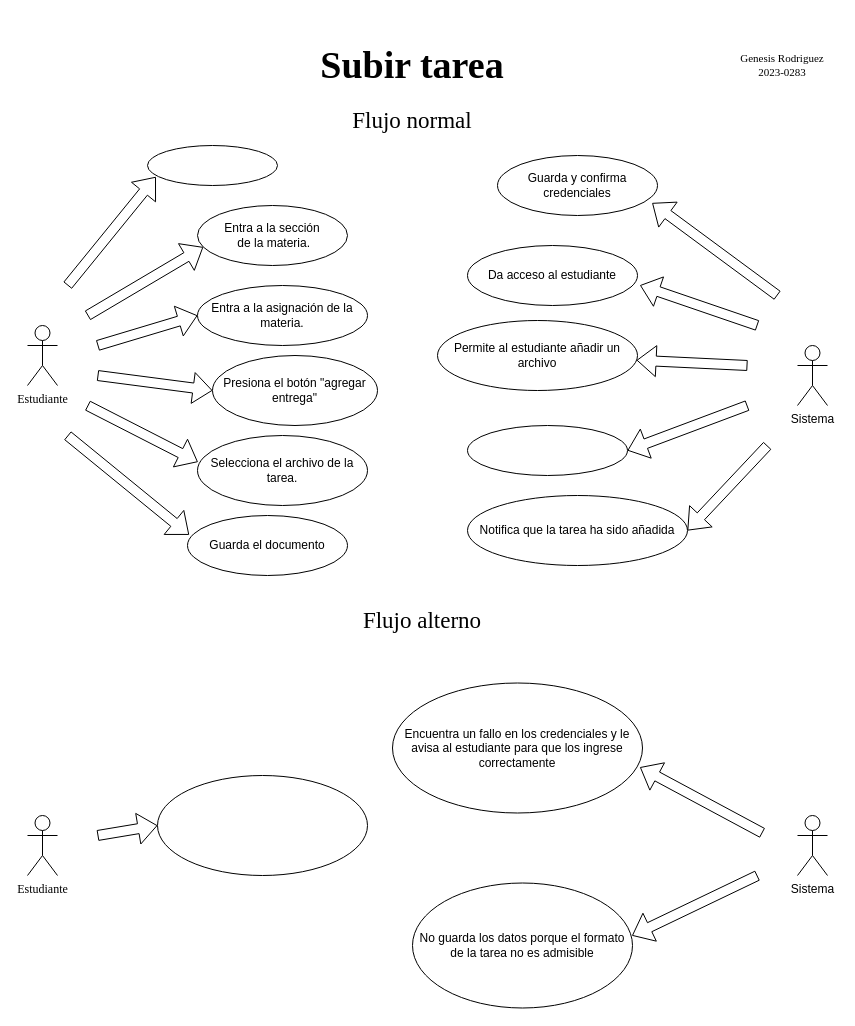
The diagram is 855 pixels wide and 1026 high, and some of its shapes have lost their labels. The shapes that lost their labels are listed below. From the top down, each one's centre as x and y in pixels, then its label:
At (212,165): "Ingresa sus credenciales".
At (547,450): "Guarda los datos".
At (262,825): "No encuentra el botón de fecha de entrega porque esta fuera de fecha".
